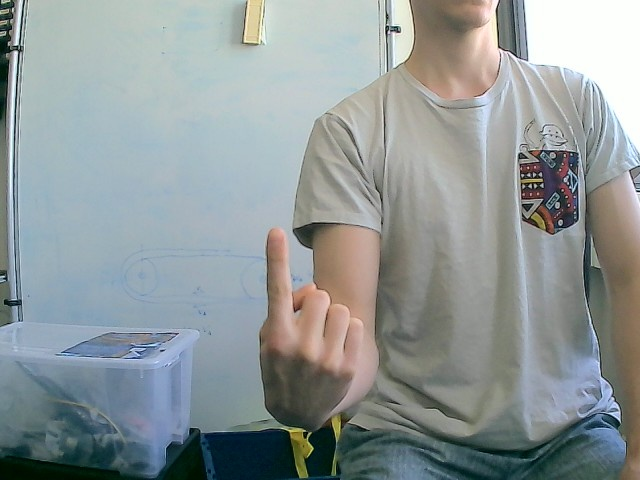up: (257, 226, 373, 433)
